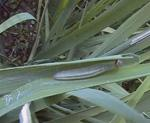pest: (53, 64, 112, 80)
